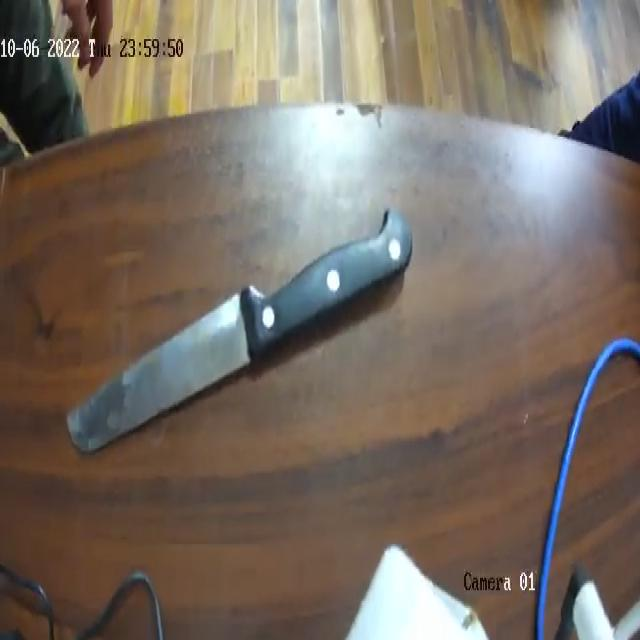Knife: (64, 194, 413, 453)
